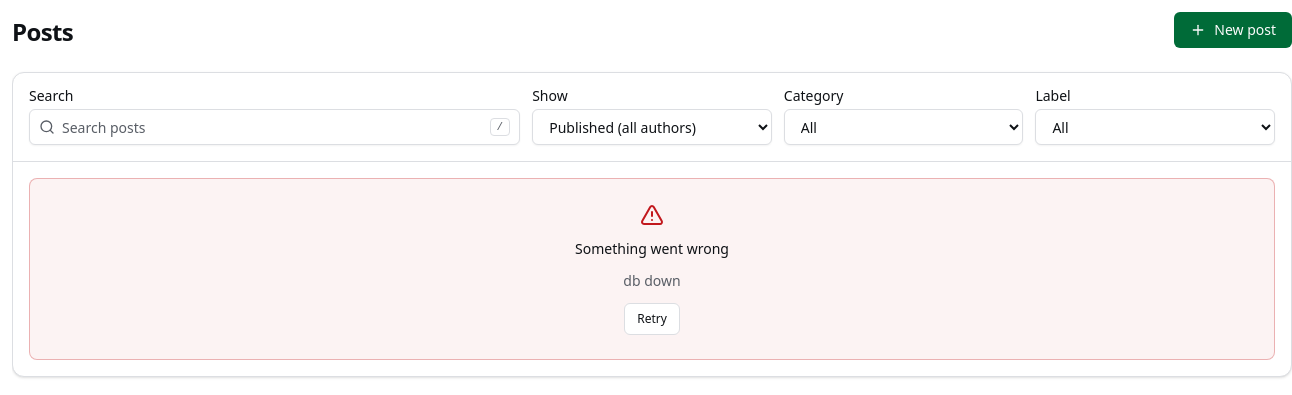
Test case: PostsPage › shows error with retry
This screenshot has width=1292, height=395.
Expected: the text "db down" is shown, [623, 271, 681, 291]
Click the button "Retry" at coordinates (652, 319), box [624, 303, 680, 335]
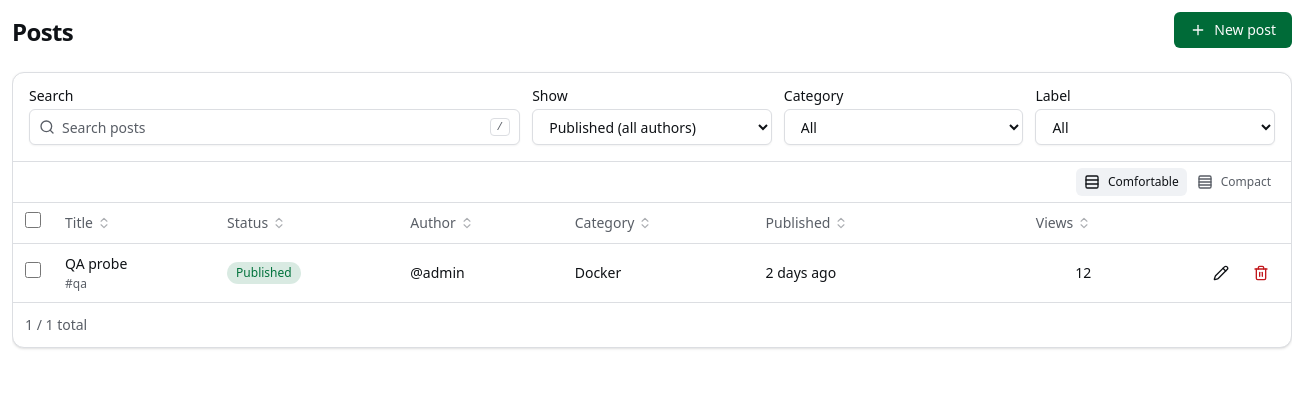
Now the link "QA probe" is shown, box [65, 254, 127, 272]
